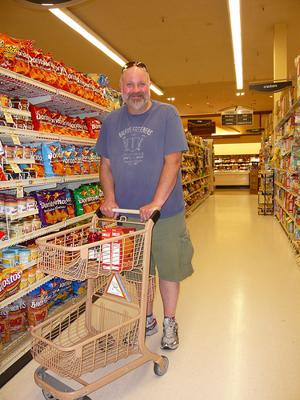person: (94, 59, 193, 354)
